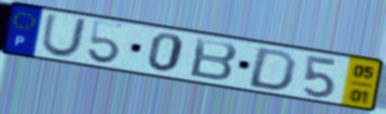0: (145, 32, 186, 74)
5: (86, 18, 132, 66), (300, 52, 342, 100)
B: (187, 36, 240, 83)
D: (244, 46, 300, 92)
U: (38, 12, 90, 59)
